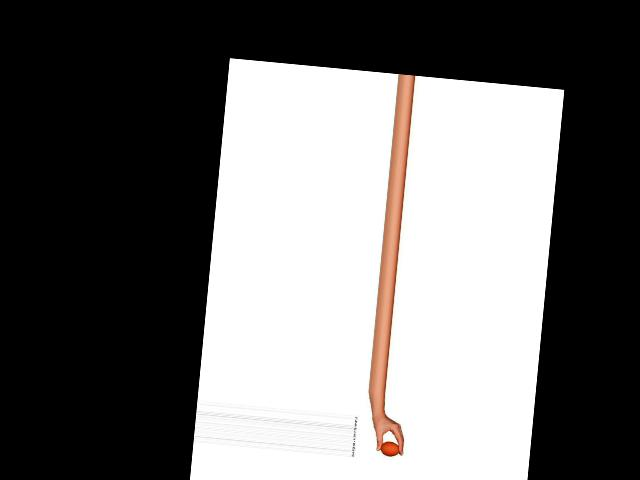egg: (379, 441, 400, 457)
